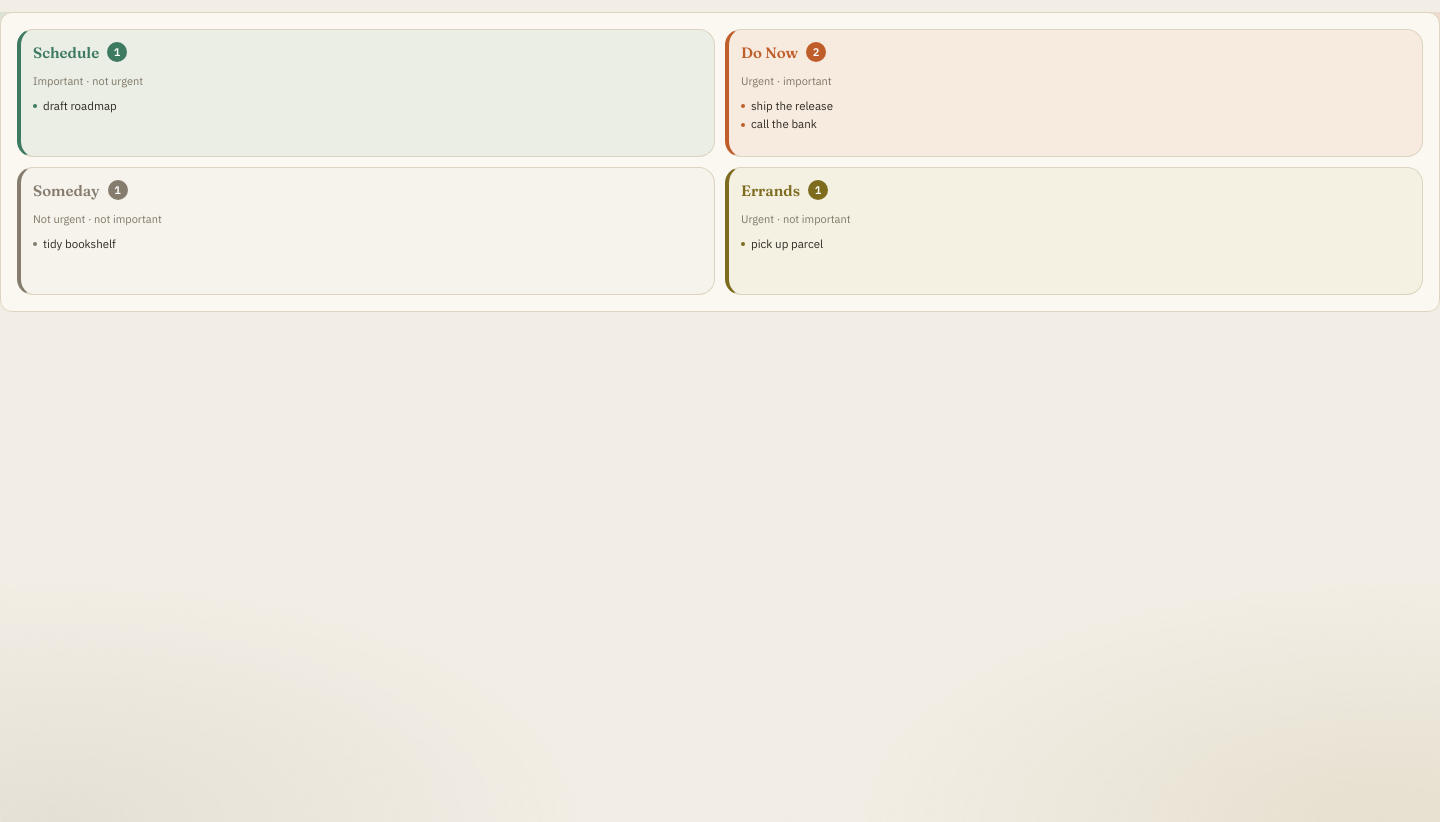
MobileMatrix › back returns to the overview
What coordinates should you click on to do the following:
click the button with aria-label "Do Now, 2 tasks"
I would click on:
 (770, 52)
Its box is [725, 29, 1423, 157].
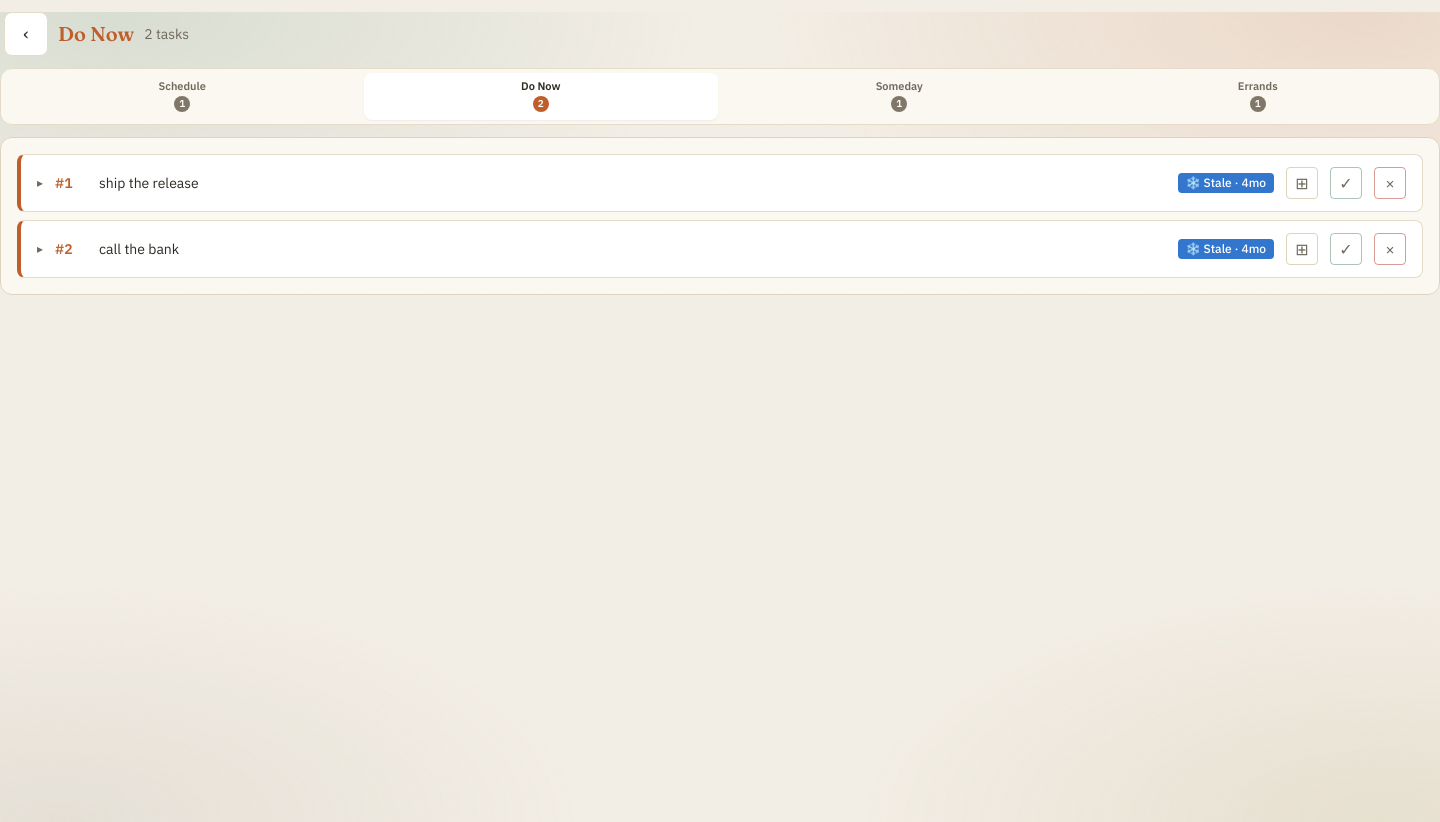
What coordinates should you click on to do the following:
click the button named "Back to quadrant overview"
I would click on:
 (26, 34)
Its box is [4, 12, 48, 56].
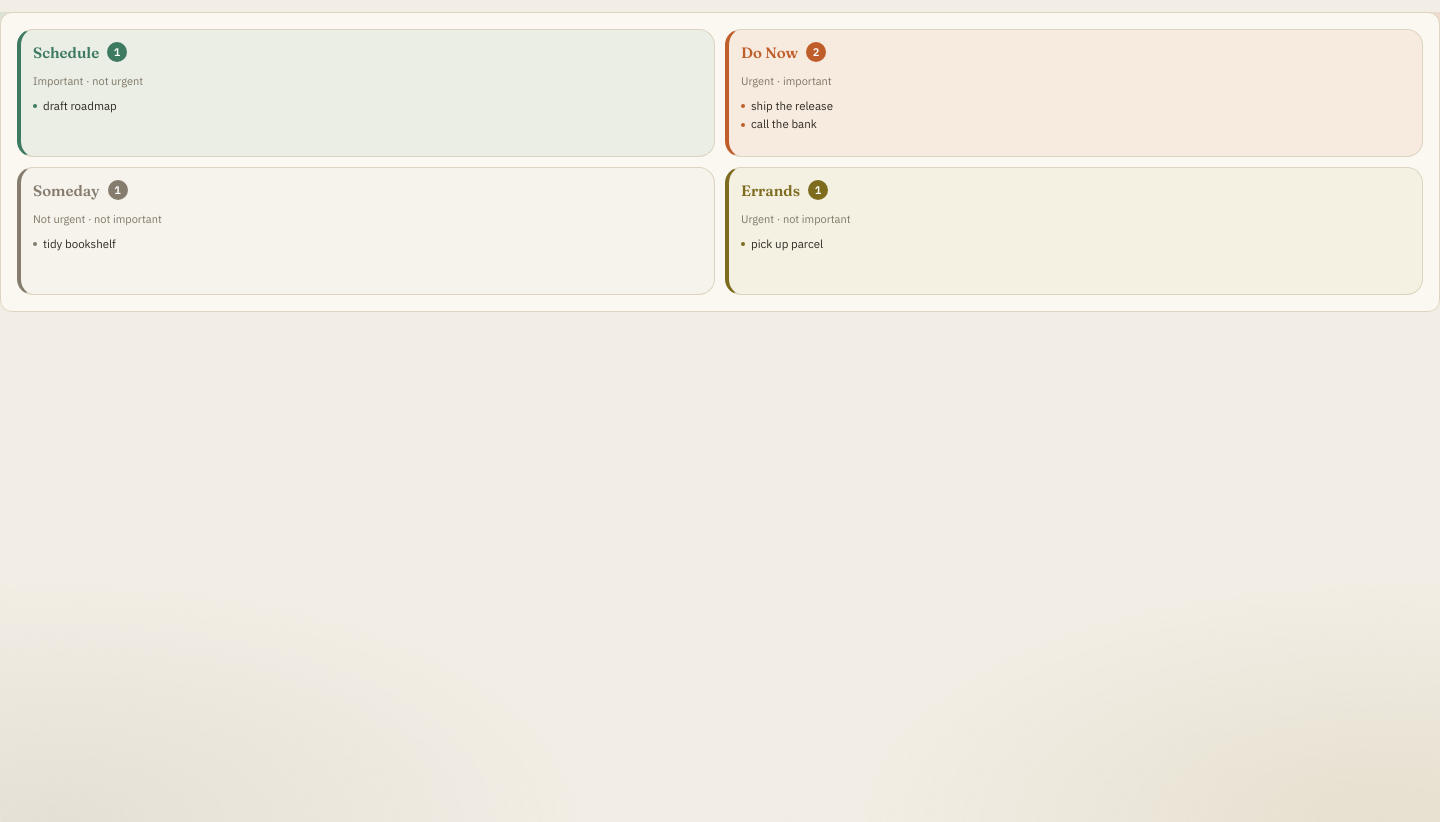
Check: the button with aria-label "Do Now, 2 tasks" is shown, box [725, 29, 1423, 157]
